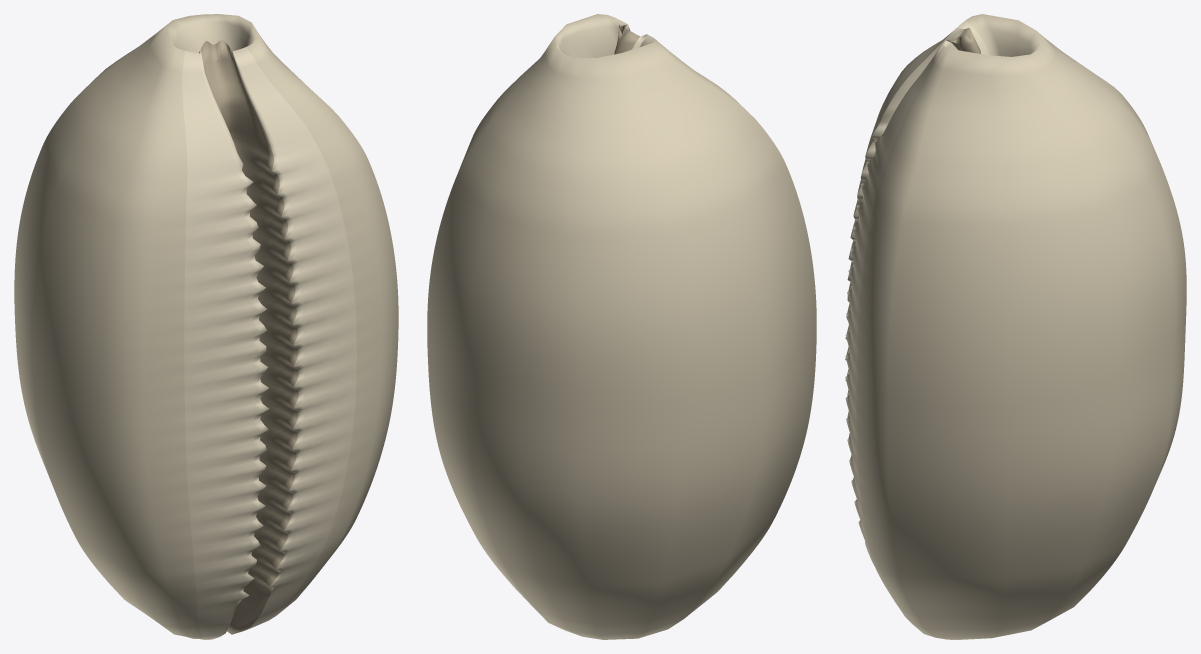
The picture shows the model from 3 angles, left to right: view 1: azimuth 30°, elevation 25°; view 2: azimuth 150°, elevation 25°; view 3: azimuth 270°, elevation 25°; orthographic projection. The views are drawn at different scales.
Parts seen in each view (by area): view 1: Continuous shell lips teeth and recessed spire; view 2: Continuous shell lips teeth and recessed spire; view 3: Continuous shell lips teeth and recessed spire.
Boxes of the visible parts, bbox=[...] form: Continuous shell lips teeth and recessed spire: bbox=[14, 14, 398, 639]; Continuous shell lips teeth and recessed spire: bbox=[427, 14, 816, 639]; Continuous shell lips teeth and recessed spire: bbox=[845, 14, 1186, 639].
Bounding box in the file's own units: 0.037 × 0.066 × 0.034.
